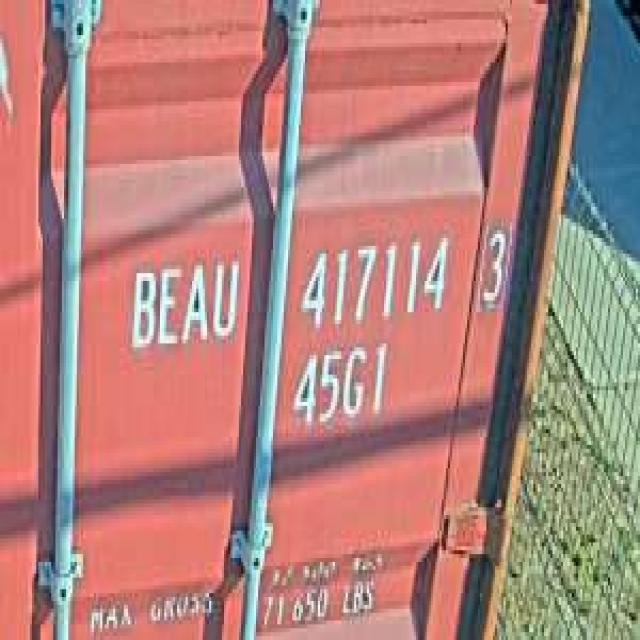dv: (471, 211, 510, 316)
owner: (124, 246, 239, 359)
serial: (297, 226, 452, 332)
size: (286, 340, 388, 433)
